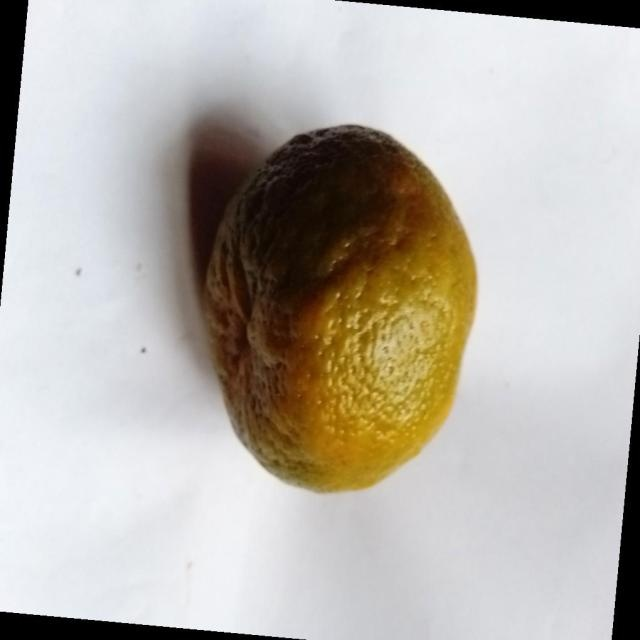agrume: (199, 122, 478, 494)
